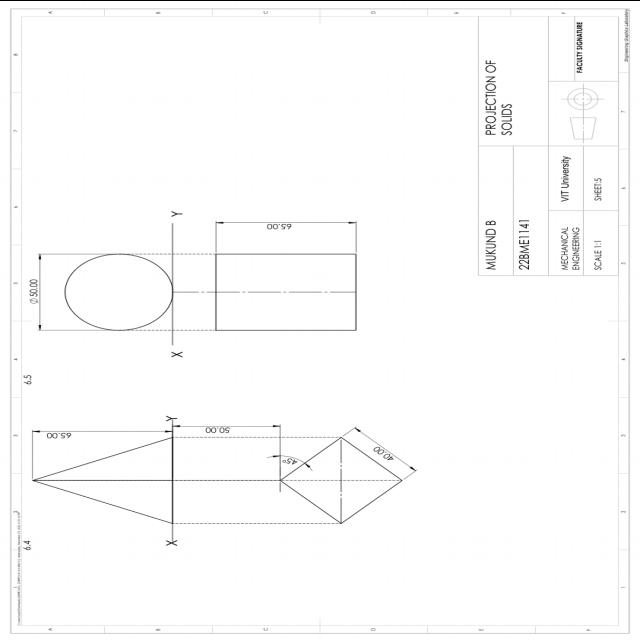Drawings: (28, 407, 430, 552), (36, 207, 367, 361)
